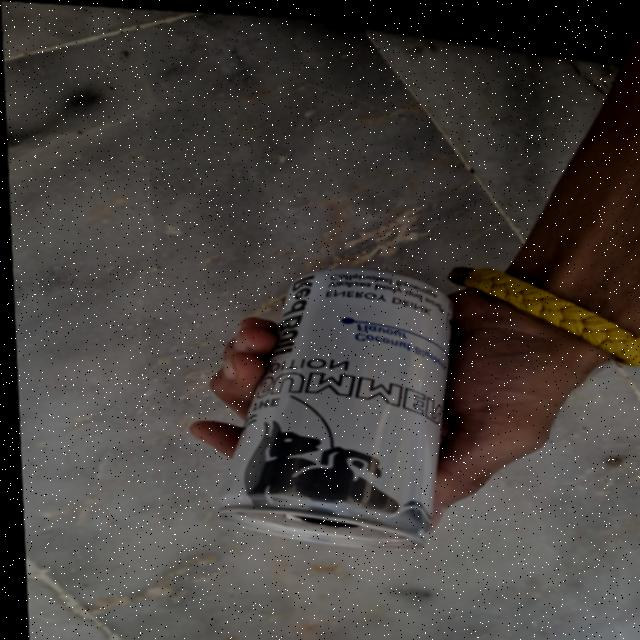Redbull Summer Edition: (196, 240, 469, 547)
